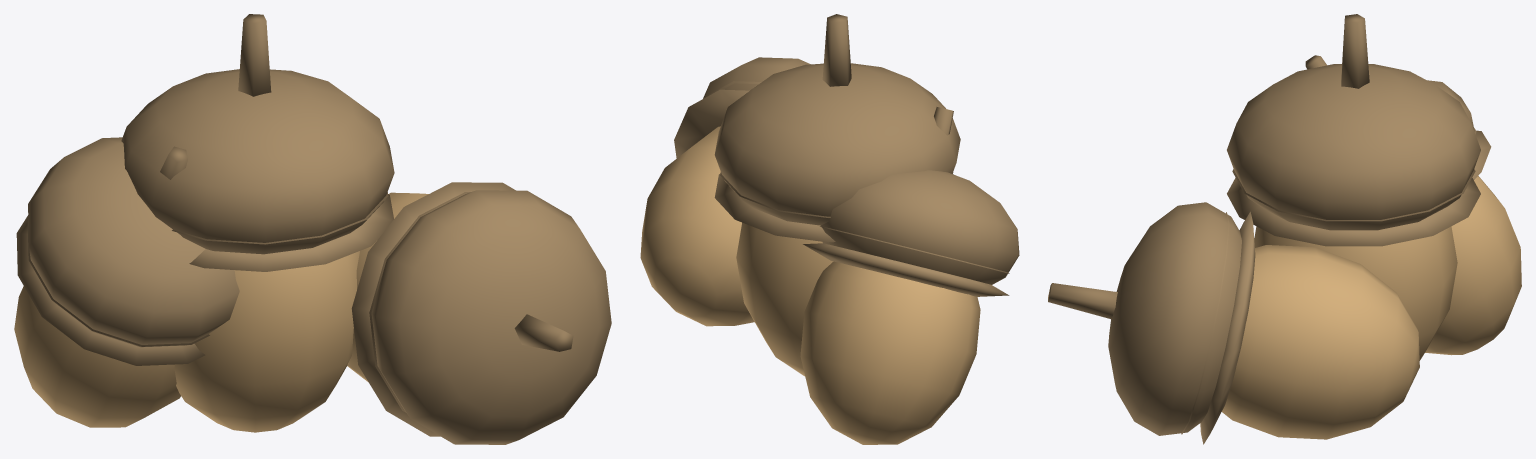
File: acorn_lite.glb
The picture shows the model from 3 angles, left to right: view 1: azimuth 30°, elevation 25°; view 2: azimuth 150°, elevation 25°; view 3: azimuth 270°, elevation 25°; orthographic projection. The views are drawn at different scales.
Parts seen in each view (by area): view 1: Sphere; view 2: Sphere; view 3: Sphere.
Boxes of the visible parts, x1=… form: Sphere: x1=14, y1=14, x2=611, y2=444; Sphere: x1=640, y1=14, x2=1019, y2=444; Sphere: x1=1048, y1=14, x2=1521, y2=444.
Size of the model in its own units: 0.5501 by 0.4791 by 0.5482.
